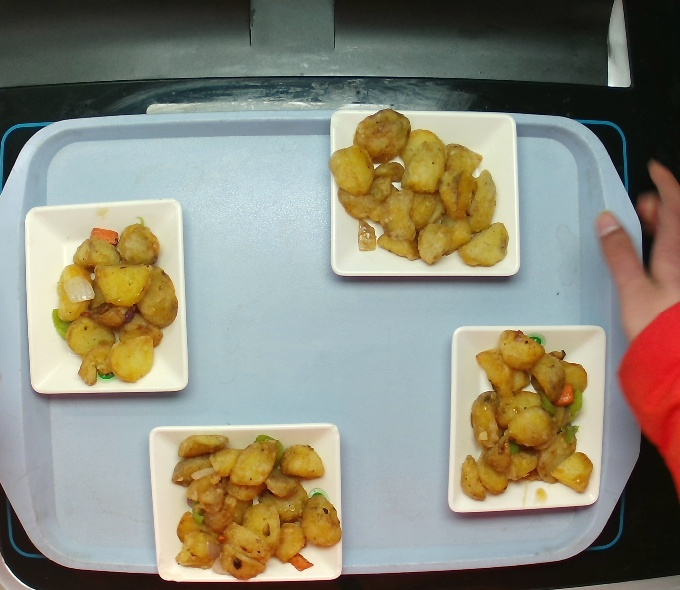wcq-TuDouZai: (335, 112, 506, 260), (463, 321, 589, 516), (43, 212, 185, 383), (172, 431, 332, 581)
